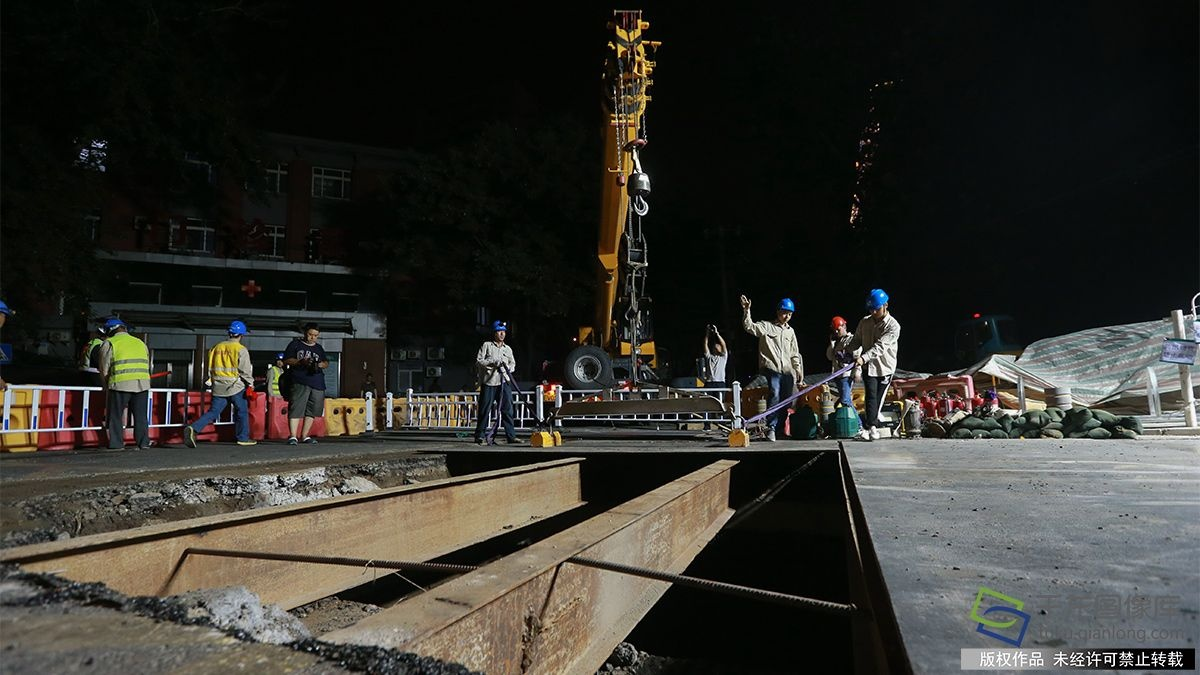blue: (865, 287, 889, 317), (774, 296, 794, 323), (103, 316, 127, 338), (226, 319, 246, 342), (491, 319, 507, 342), (274, 352, 285, 368)
none: (303, 321, 320, 342), (710, 340, 723, 355)
red: (831, 314, 846, 337)
